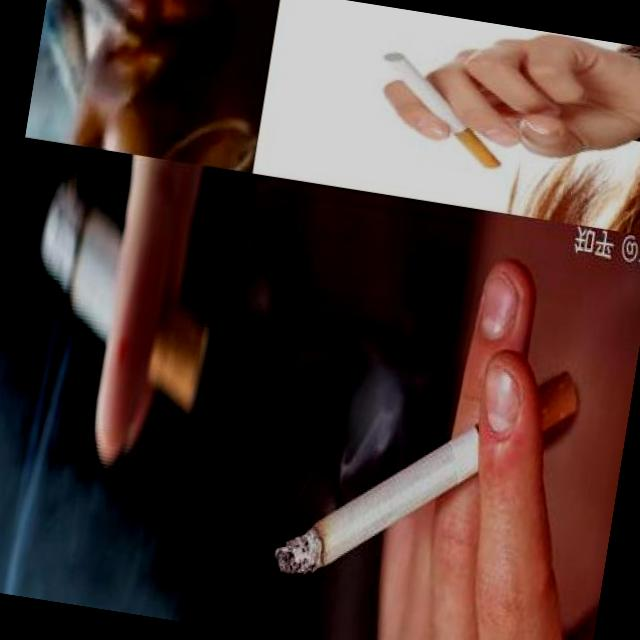smoke: (271, 328, 584, 617), (14, 167, 234, 419), (364, 50, 522, 175), (39, 0, 167, 63)
